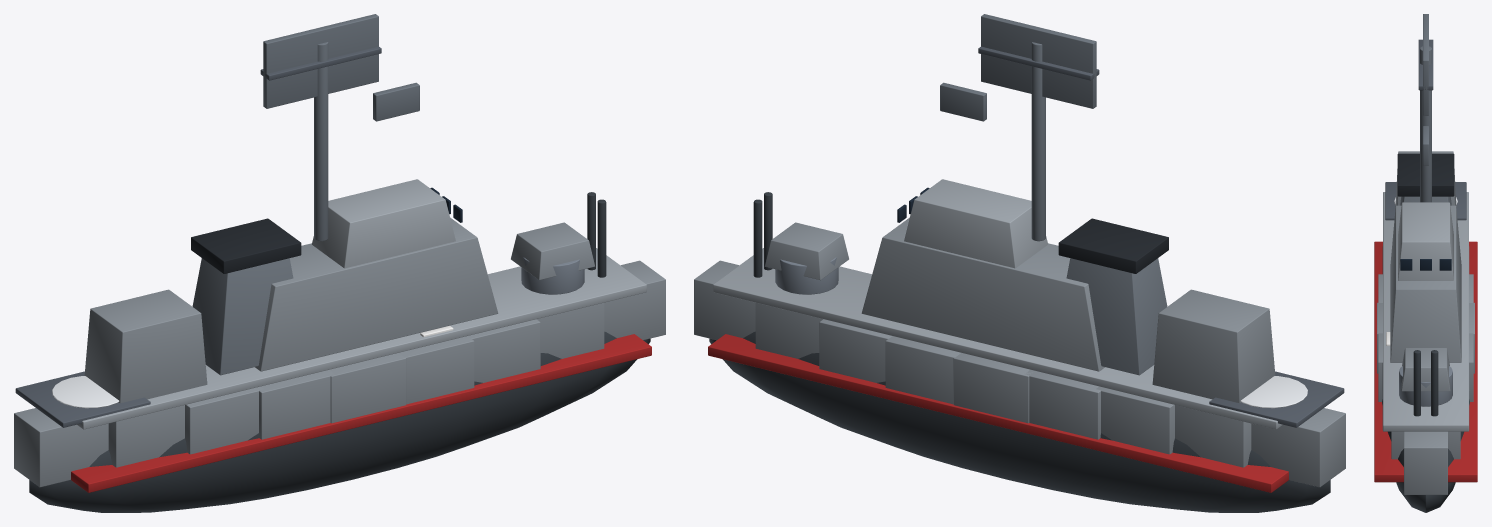
File: navio_leander.glb
The picture shows the model from 3 angles, left to right: view 1: azimuth 30°, elevation 25°; view 2: azimuth 150°, elevation 25°; view 3: azimuth 270°, elevation 25°; orthographic projection. The views are drawn at different scales.
Visible parts, largest first — view 1: navio_leander; view 2: navio_leander; view 3: navio_leander.
Part boxes in pixels (<box>): navio_leander: <box>14,14,665,512</box>; navio_leander: <box>694,14,1345,512</box>; navio_leander: <box>1374,14,1477,512</box>.
Size of the model in its own units: 5 by 3.46 by 0.84.
